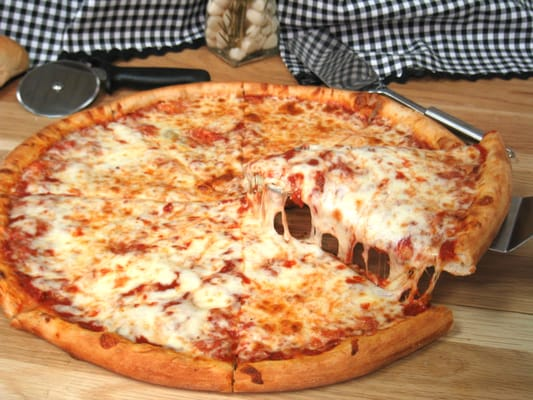curry: (1, 34, 532, 400)
sandwich: (0, 81, 511, 396)
